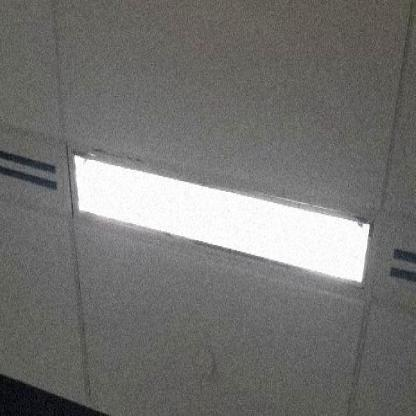light_on: (64, 126, 380, 313)
